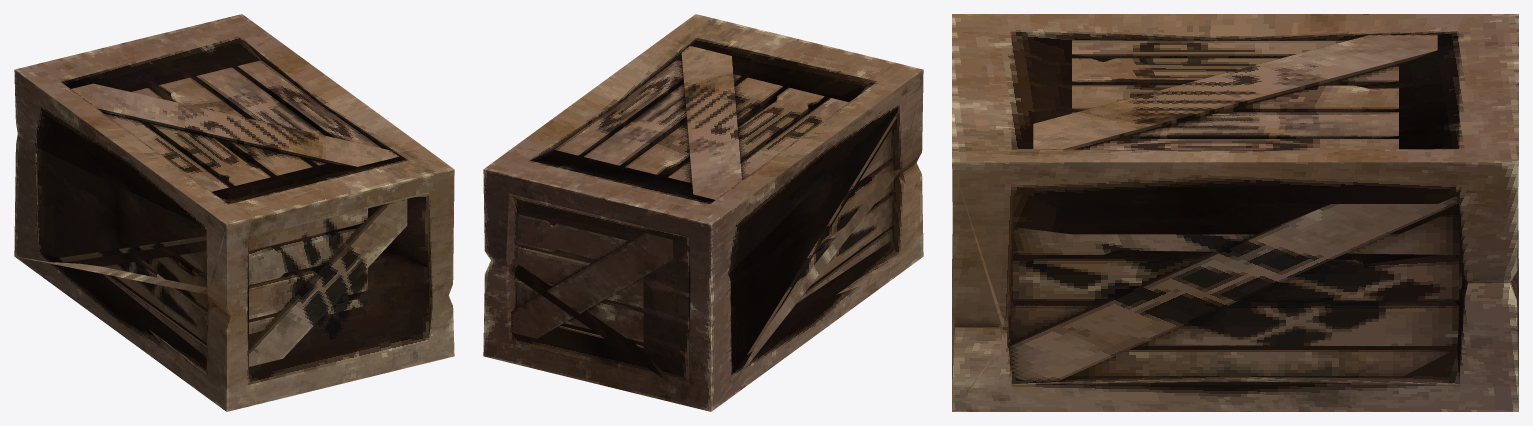
Rendered from item_randombox_ammocrate.glb.
The picture shows the model from 3 angles, left to right: view 1: azimuth 30°, elevation 25°; view 2: azimuth 150°, elevation 25°; view 3: azimuth 270°, elevation 25°; orthographic projection. The views are drawn at different scales.
Visible parts, largest first — view 1: Crate_Ammo; view 2: Crate_Ammo; view 3: Crate_Ammo.
Part boxes in pixels (bbox=[...]): Crate_Ammo: bbox=[14, 14, 454, 411]; Crate_Ammo: bbox=[483, 14, 923, 411]; Crate_Ammo: bbox=[952, 14, 1518, 411].
Size of the model in its own units: 0.472 by 0.3702 by 0.7619.
1 material, 1 textured.
